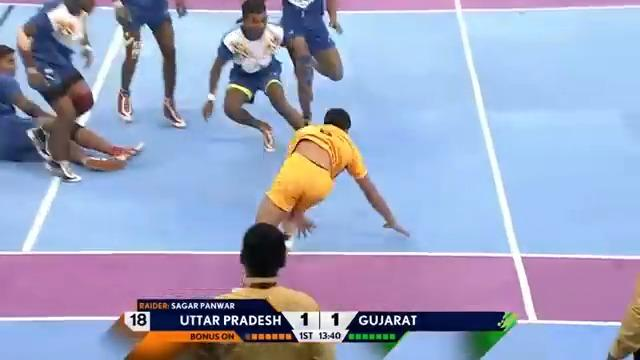Player: (0, 43, 141, 174), (200, 1, 306, 152), (111, 0, 188, 128), (276, 0, 346, 124)
Raider: (252, 105, 411, 249)
referee: (212, 221, 321, 343)
